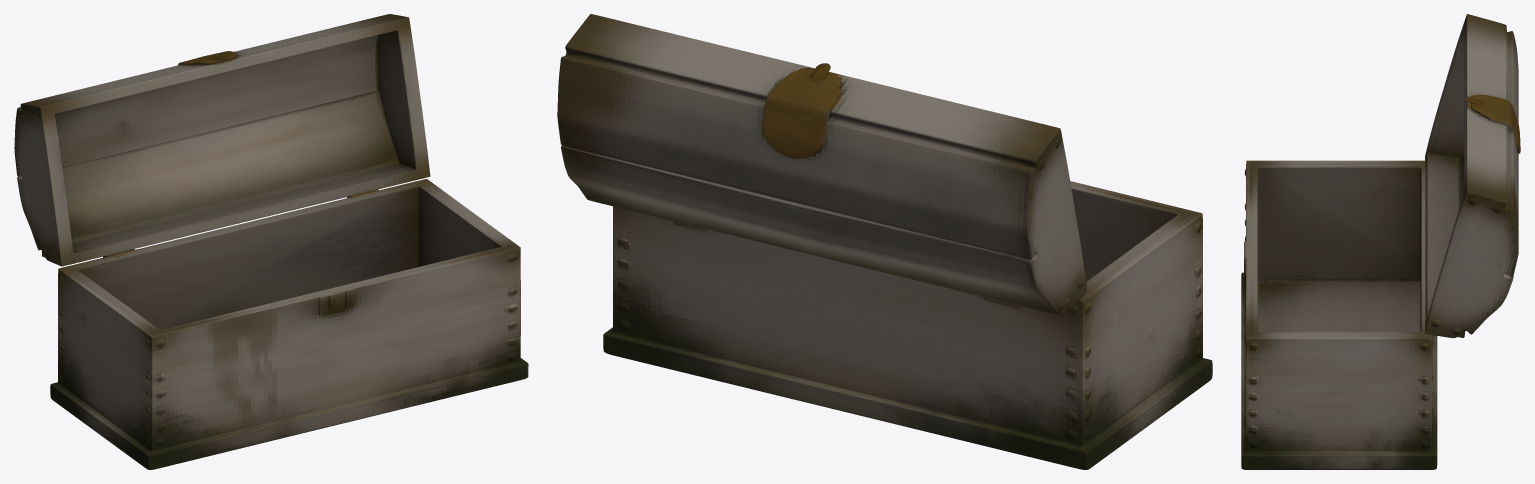
File: ToyBox.glb
The picture shows the model from 3 angles, left to right: view 1: azimuth 30°, elevation 25°; view 2: azimuth 150°, elevation 25°; view 3: azimuth 270°, elevation 25°; orthographic projection. The views are drawn at different scales.
Visible parts, largest first — view 1: ToyBox; view 2: ToyBox; view 3: ToyBox.
Part boxes in pixels (x1=…): ToyBox: x1=14, y1=14, x2=528, y2=469; ToyBox: x1=557, y1=14, x2=1212, y2=469; ToyBox: x1=1241, y1=14, x2=1520, y2=469.
Bounding box in the file's own units: 0.7 × 0.5 × 0.45.
1 material, 1 textured.
